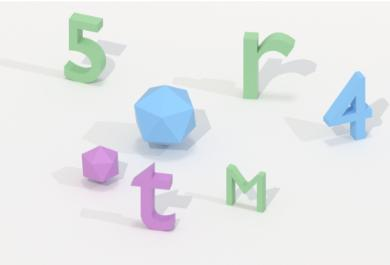0-TronCanh: (128, 80, 201, 151), (78, 142, 123, 187)
4: (319, 67, 375, 145)
5: (62, 6, 110, 85)
M: (224, 160, 269, 216)
r: (240, 27, 297, 106)
t: (130, 159, 181, 235)
